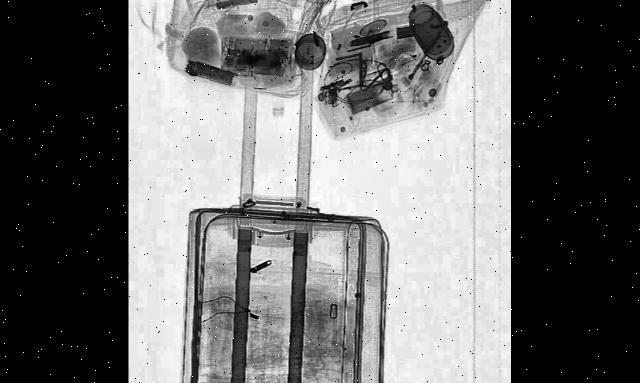Scissors: (362, 54, 391, 102)
